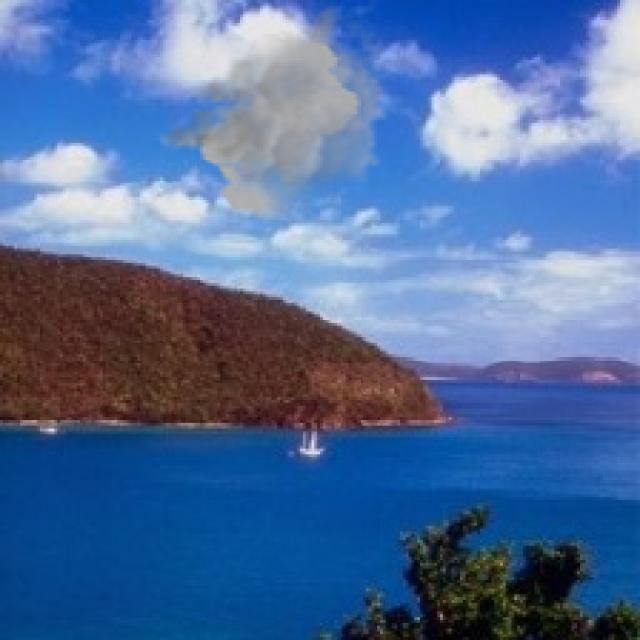Smoke: (154, 3, 392, 223)
